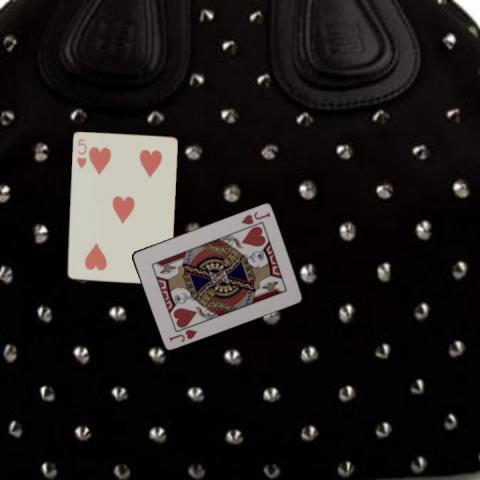5h: (73, 136, 88, 170)
Jh: (239, 209, 272, 226), (166, 326, 199, 343)
